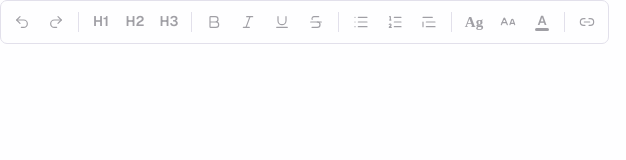
EditorToolbar: locked on the Free plan › says to upgrade in the tooltip
This screenshot has width=626, height=160.
Focus the button named "Bold" at x=214, y=22, box x1=198 y1=6 x2=230 y2=38
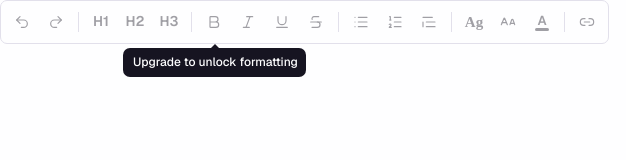
Check: the tooltip "Upgrade to unlock formatting" is shown, box x1=123 y1=48 x2=306 y2=77
